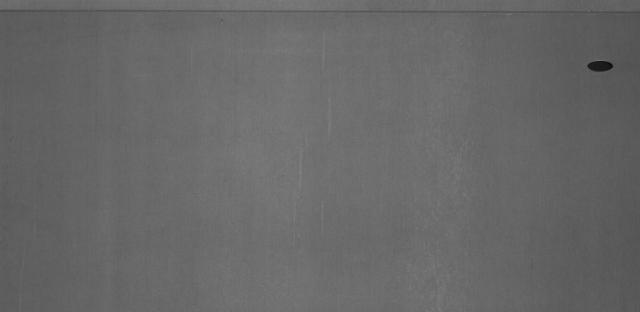punching_hole: (582, 54, 624, 78)
welding_line: (1, 3, 640, 26)
